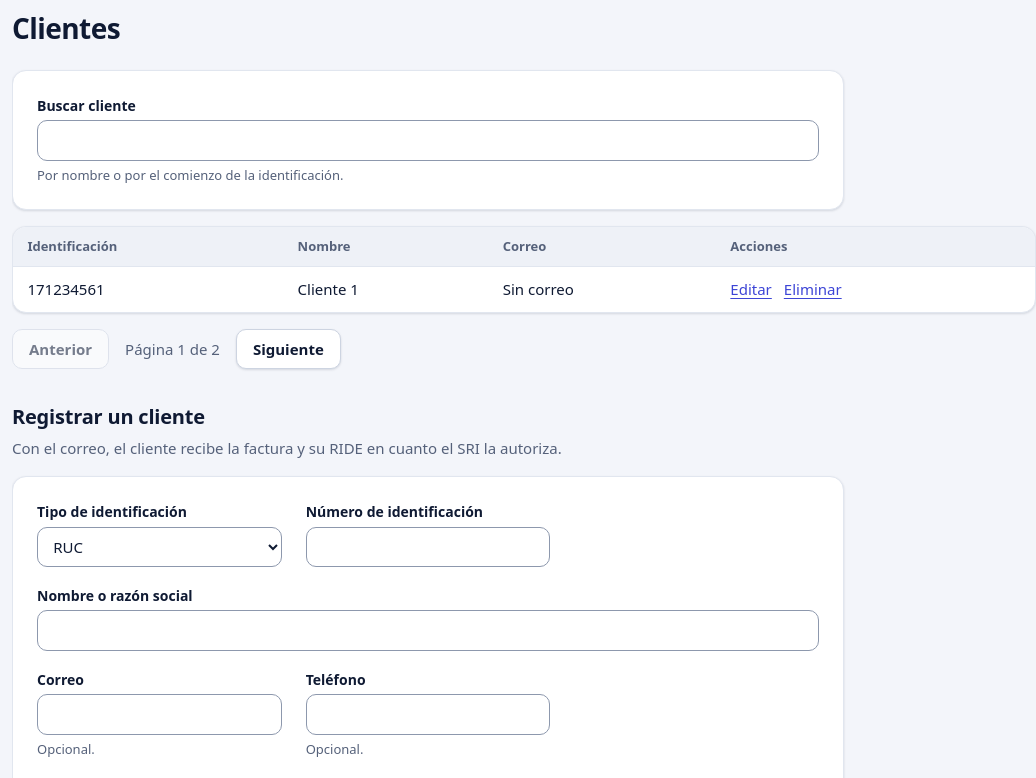
Clientes › paginates
The width and height of the screenshot is (1036, 778).
Expected: the text "Página 1 de 2" is shown, [125, 338, 220, 360]
Expected: the button "Anterior" is disabled, [12, 329, 109, 369]
Click the button "Siguiente".
click(288, 349)  # box [236, 329, 341, 369]
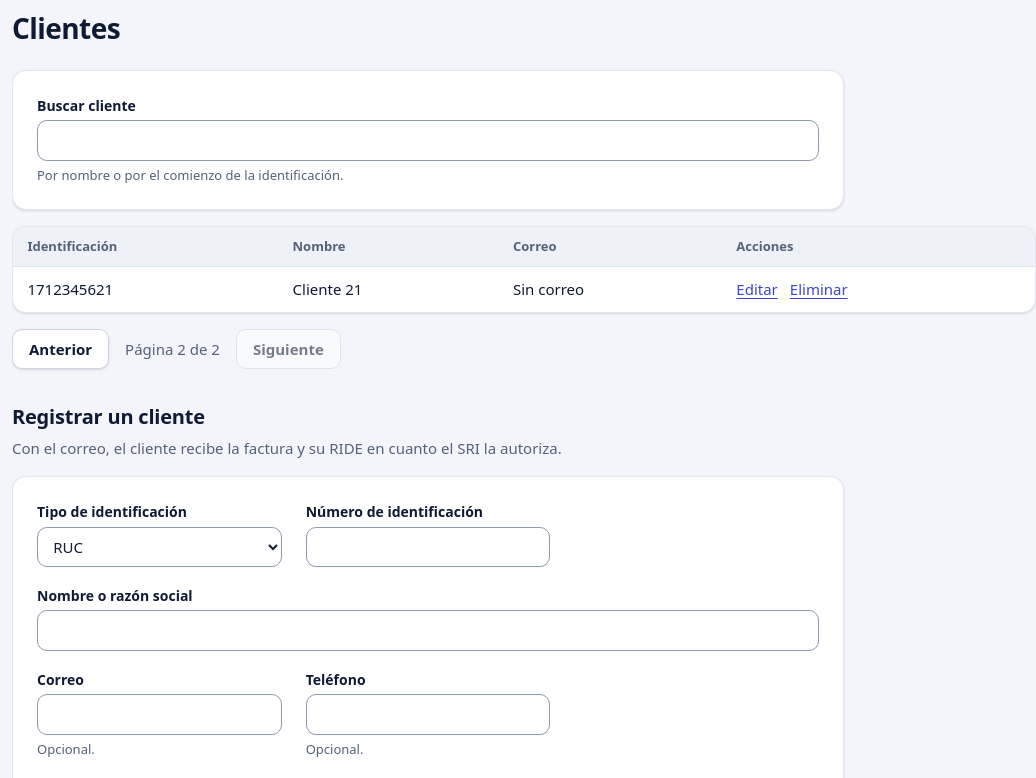
Expected: the text "Cliente 21" is shown, [278, 267, 499, 312]
Expected: the text "Página 2 de 2" is shown, [125, 338, 220, 360]
